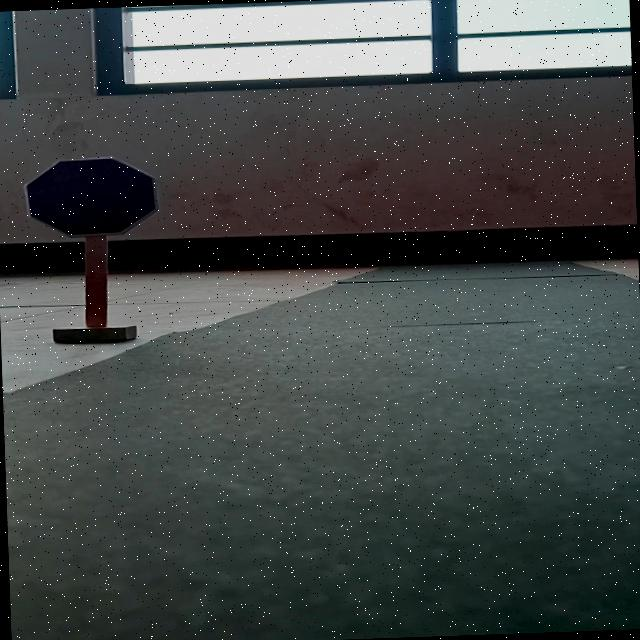Stop: (22, 155, 162, 240)
